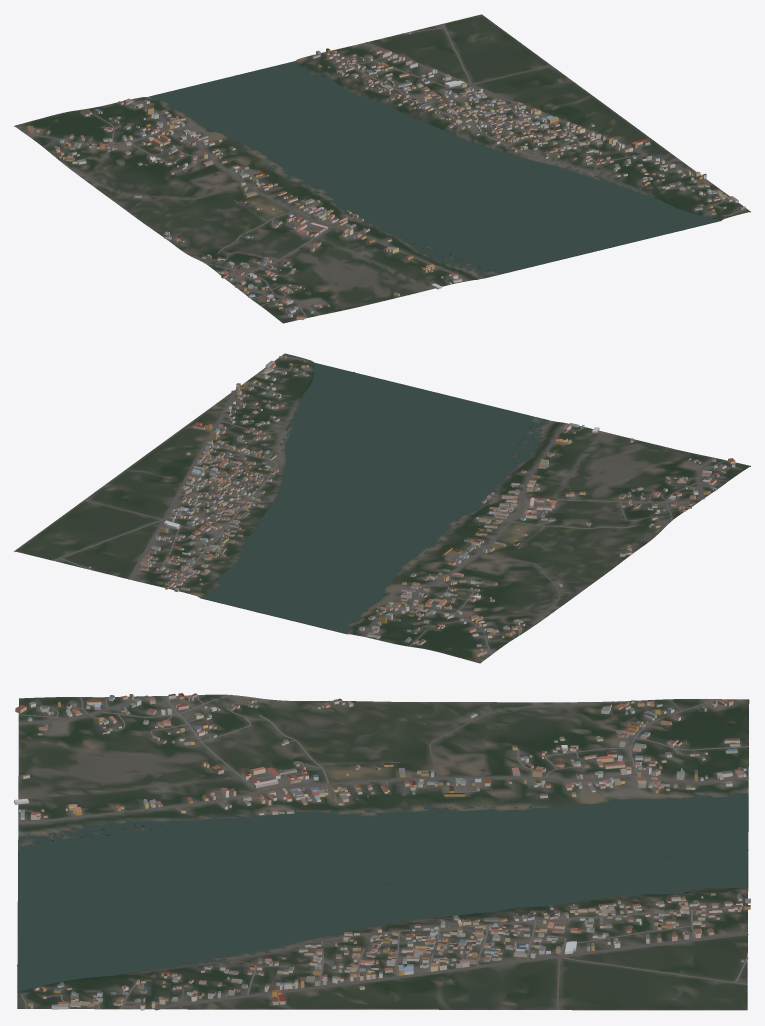
The picture shows the model from 3 angles, top to bottom: view 1: azimuth 30°, elevation 25°; view 2: azimuth 150°, elevation 25°; view 3: azimuth 270°, elevation 25°; orthographic projection. The views are drawn at different scales.
Visible parts, largest first — view 1: ground, water, buildings, roads; view 2: ground, water, buildings, roads; view 3: ground, water, buildings, roads.
Boxes of the visible parts, x1,y1,x2,y2 form: ground: (14,14,750,323); water: (150,61,720,278); buildings: (27,32,745,319); roads: (26,23,747,317); ground: (14,353,750,663); water: (200,362,555,633); buildings: (88,355,735,656); roads: (53,355,729,654); ground: (17,694,749,1010); water: (17,793,748,991); buildings: (14,693,750,1010); roads: (18,694,748,1010).
Bounding box in the file's own units: 1409 × 25.94 × 1415.
